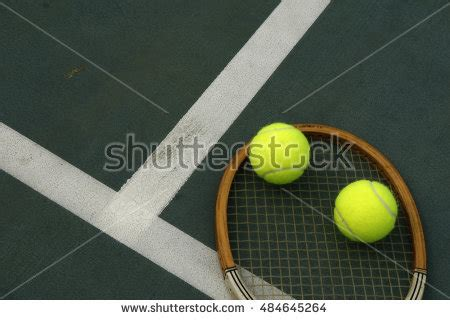tennis_ball: (333, 179, 398, 243), (250, 123, 309, 184)
